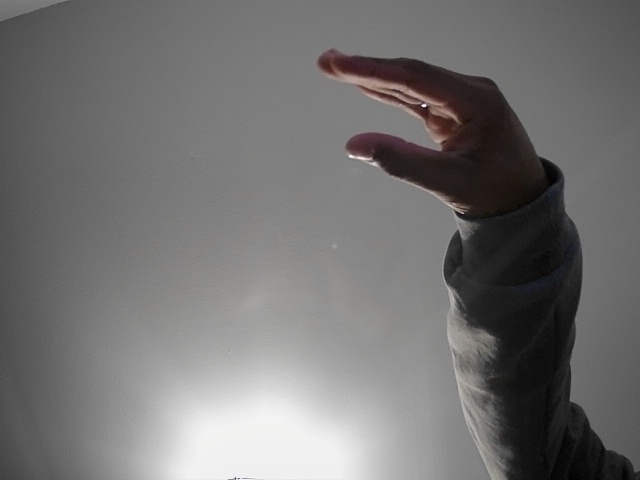No: (300, 31, 574, 240)
